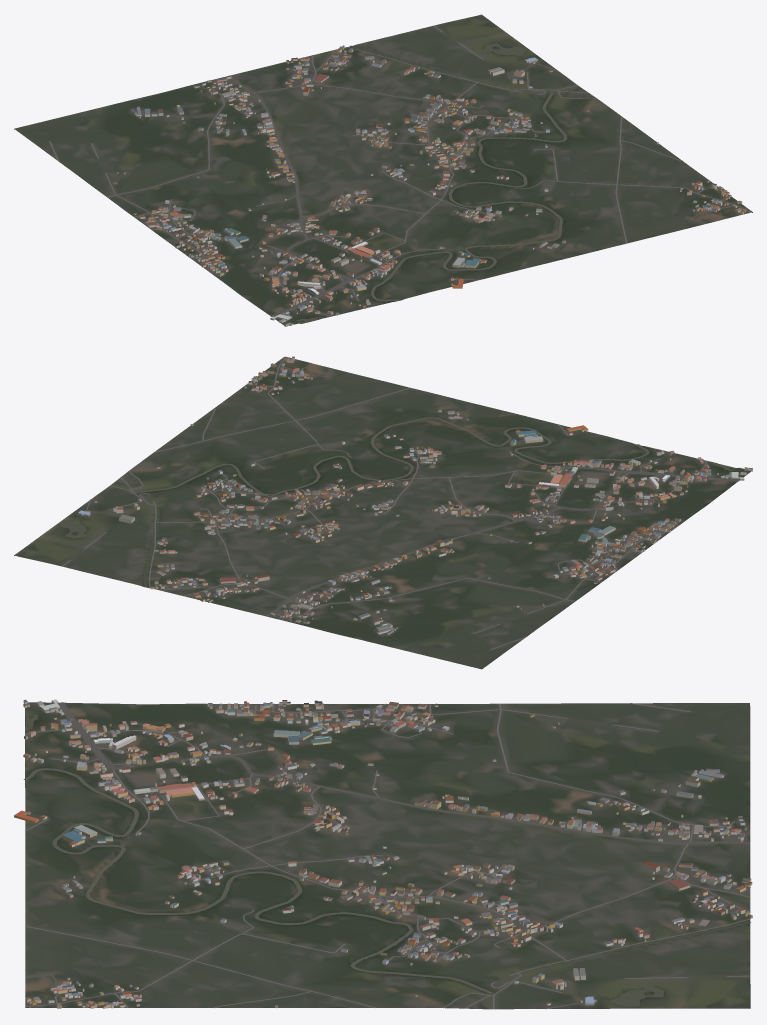
The picture shows the model from 3 angles, top to bottom: view 1: azimuth 30°, elevation 25°; view 2: azimuth 150°, elevation 25°; view 3: azimuth 270°, elevation 25°; orthographic projection. The views are drawn at different scales.
Visible parts, largest first — view 1: ground, buildings, roads, water; view 2: ground, buildings, roads, water; view 3: ground, buildings, roads, water.
Part boxes in pixels (x1,y1,x2,y2): ground: [14, 14, 752, 325]; buildings: [113, 45, 746, 326]; roads: [49, 25, 751, 316]; water: [297, 43, 566, 323]; ground: [14, 356, 752, 669]; buildings: [78, 356, 752, 635]; roads: [62, 356, 739, 649]; water: [59, 417, 735, 587]; ground: [25, 702, 750, 1009]; buildings: [14, 699, 752, 1008]; roads: [25, 702, 750, 1009]; water: [23, 714, 750, 1006].
Size of the model in its own units: 1411 by 19.25 by 1429.
